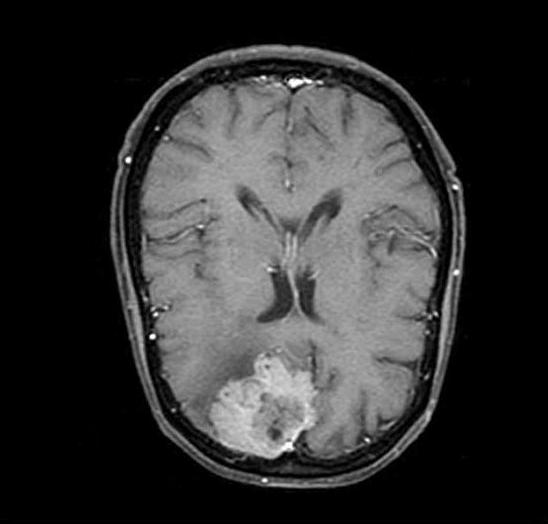Tumour-Meningioma: (197, 340, 339, 460)
